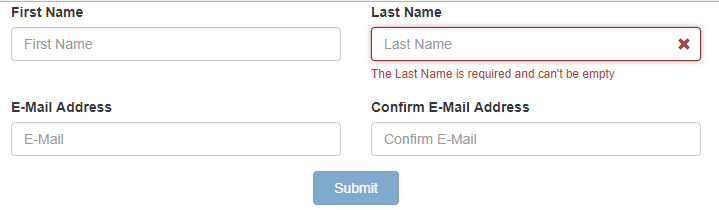error_field: (368, 25, 704, 63)
error_message: (371, 68, 614, 81)
